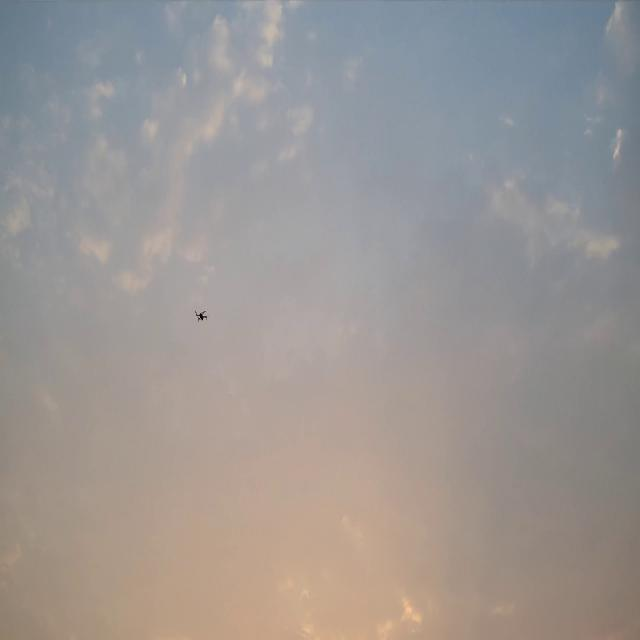drone: (194, 310, 209, 322)
